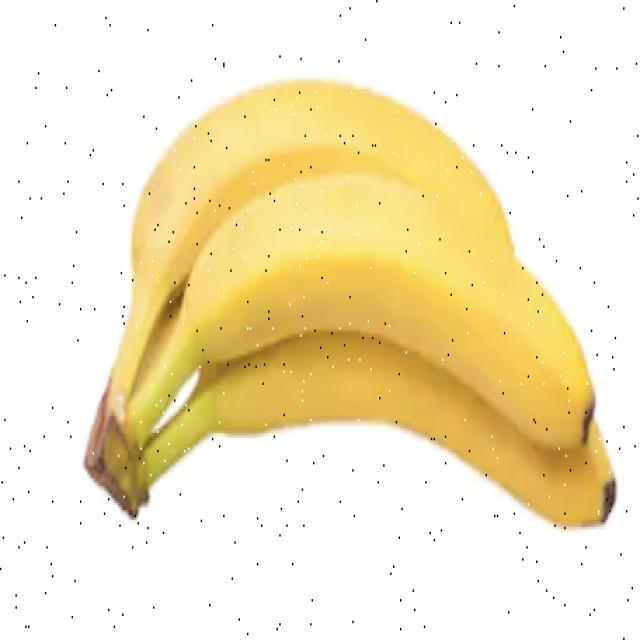Banana: (83, 77, 617, 528)
